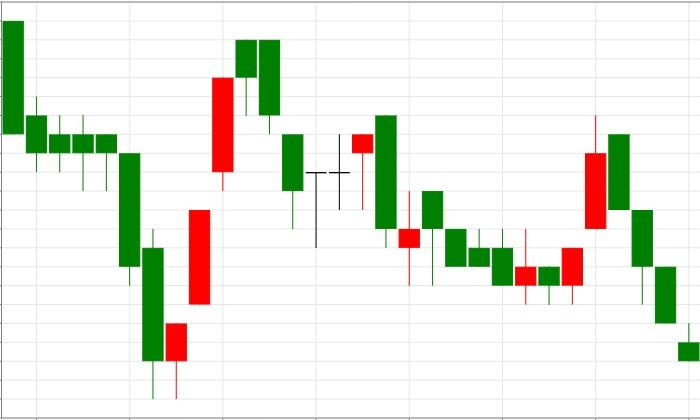three_black_crows_fall: (515, 114, 677, 323)
